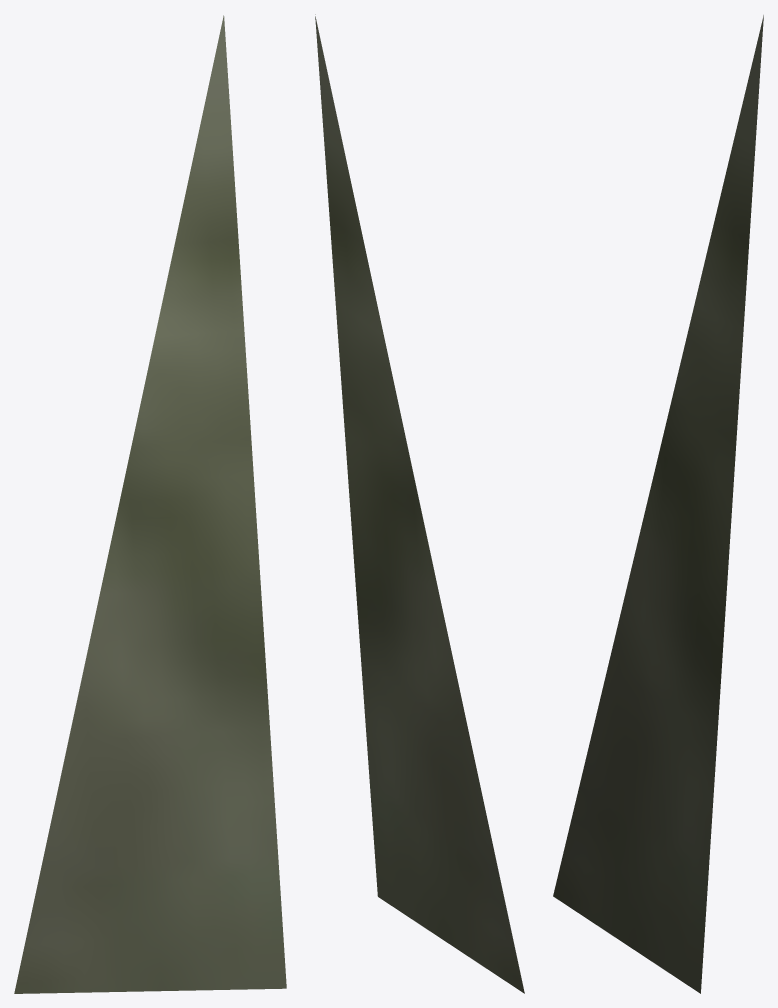
3 renders of one model, left to right at view 1: azimuth 30°, elevation 25°; view 2: azimuth 150°, elevation 25°; view 3: azimuth 330°, elevation 25°, orthographic.
Bounding box in the file's own units: 0.1429 × 0.6044 × 0.0741.
1 material, 1 textured.
